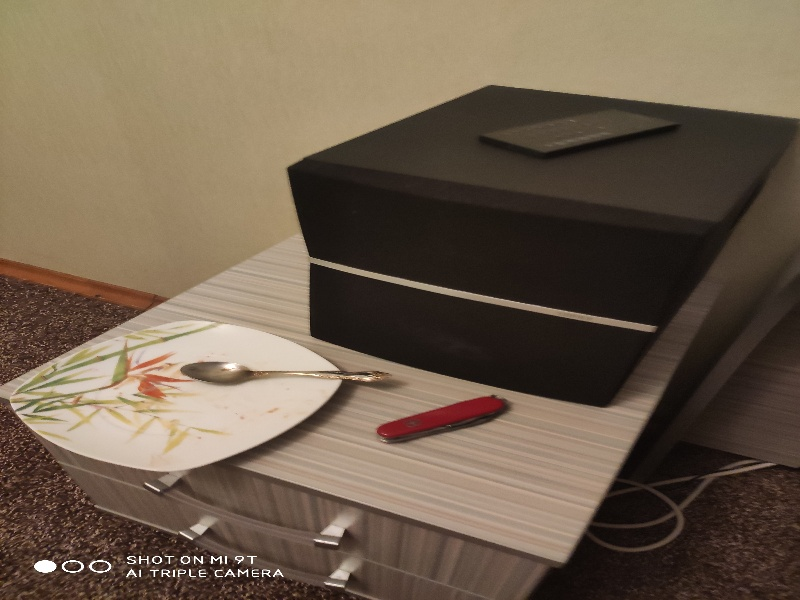knife: (371, 391, 518, 451)
